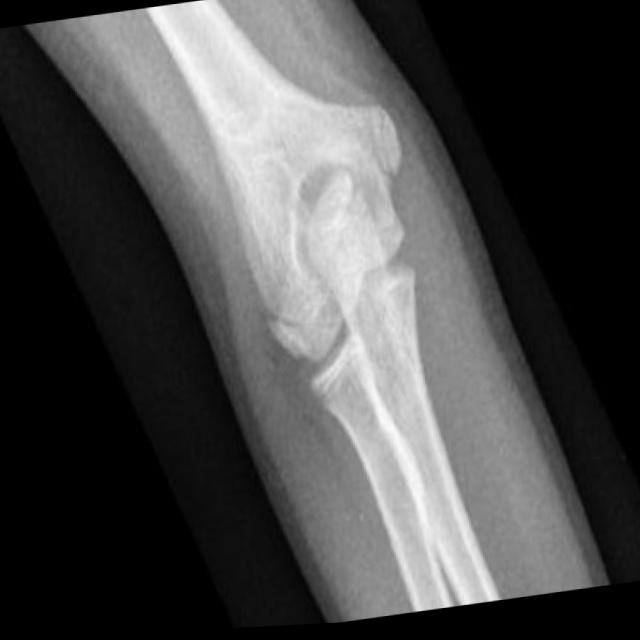fracture: (249, 294, 316, 379)
